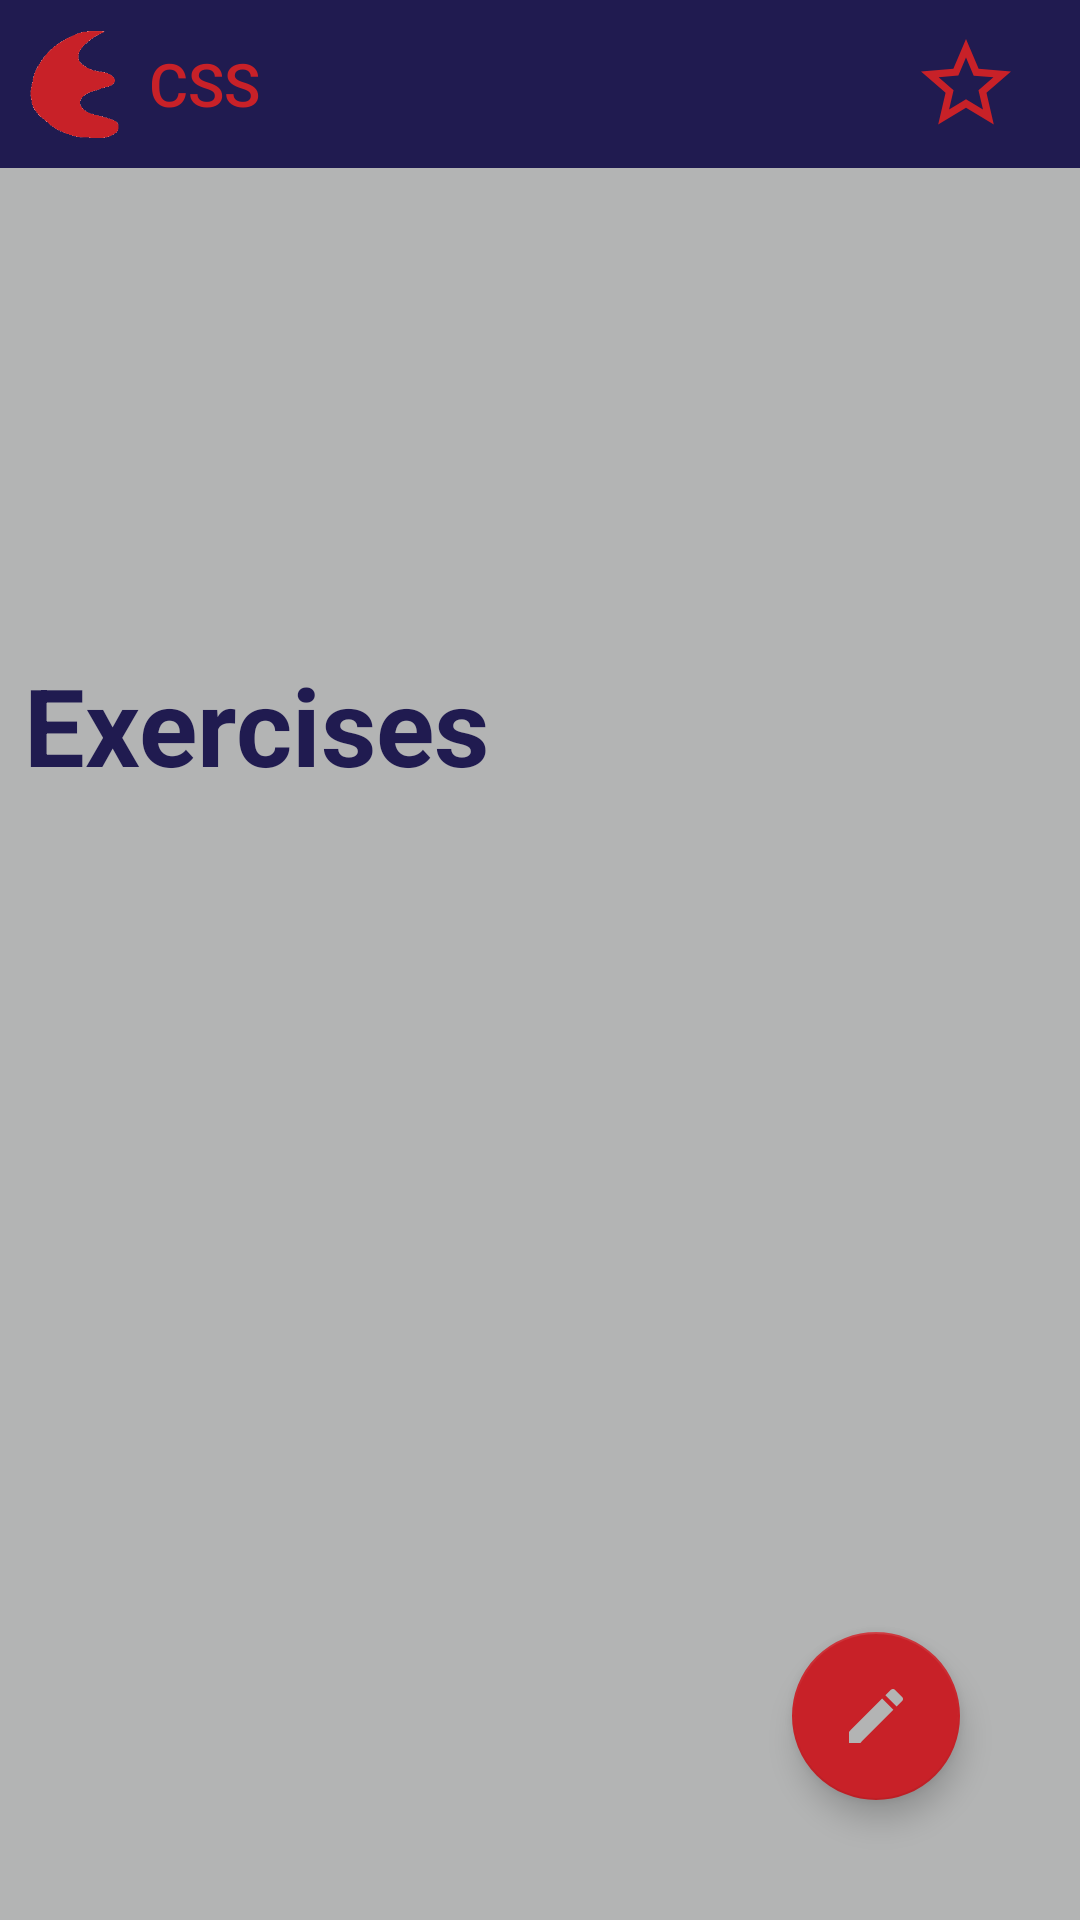

Icon bounding boxes for this 1080px x 1920px phone screenshot, format (x1, y1, x2, y2):
edit: (792, 1632, 960, 1800)
star border: (921, 39, 1011, 125)
